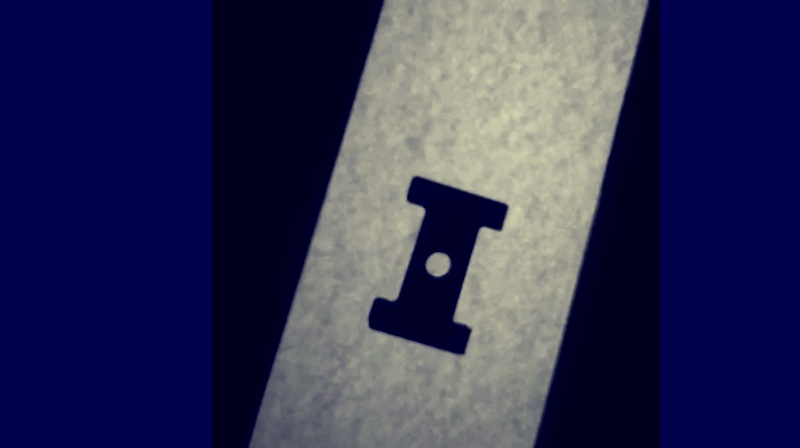O002: (364, 169, 509, 355)
